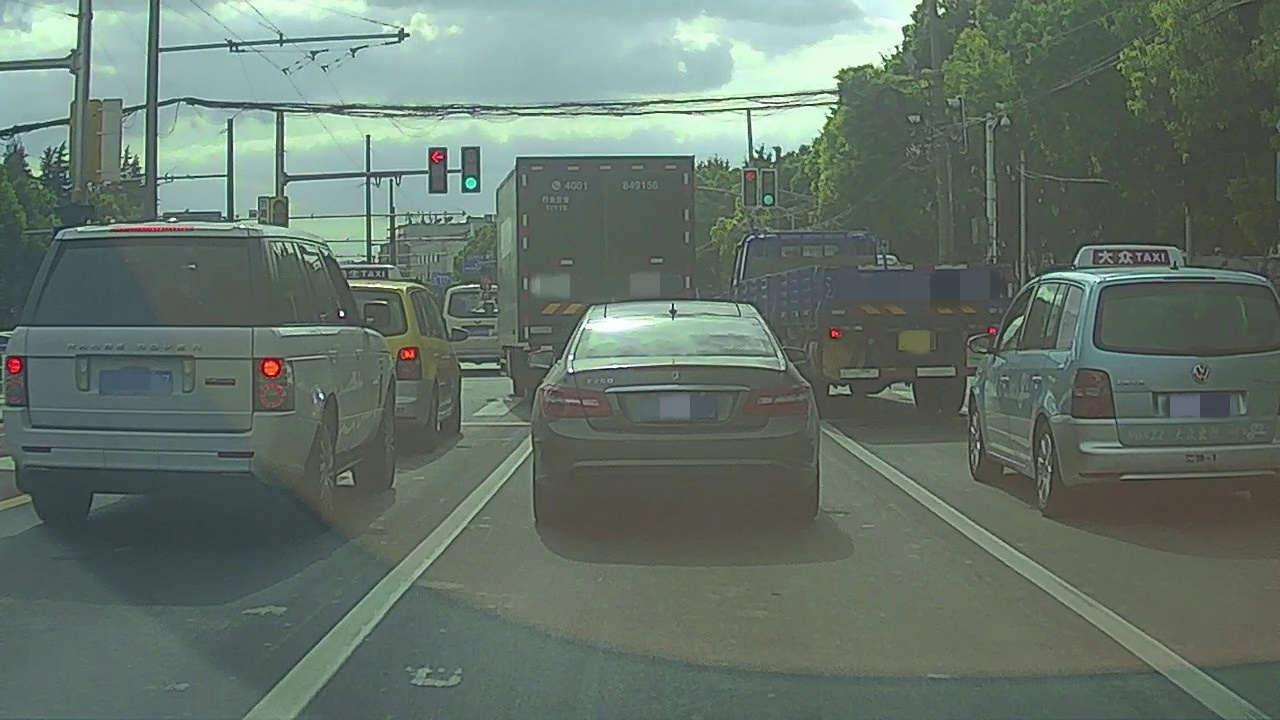traffic_light: (428, 147, 447, 194), (461, 147, 480, 193), (762, 171, 775, 207), (744, 170, 756, 205)
